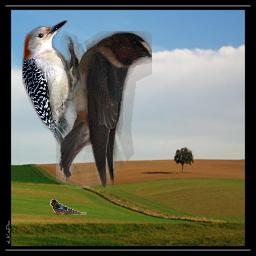Swallow: (56, 31, 152, 189), (50, 199, 87, 215)
Woodpecker: (22, 20, 83, 145)
